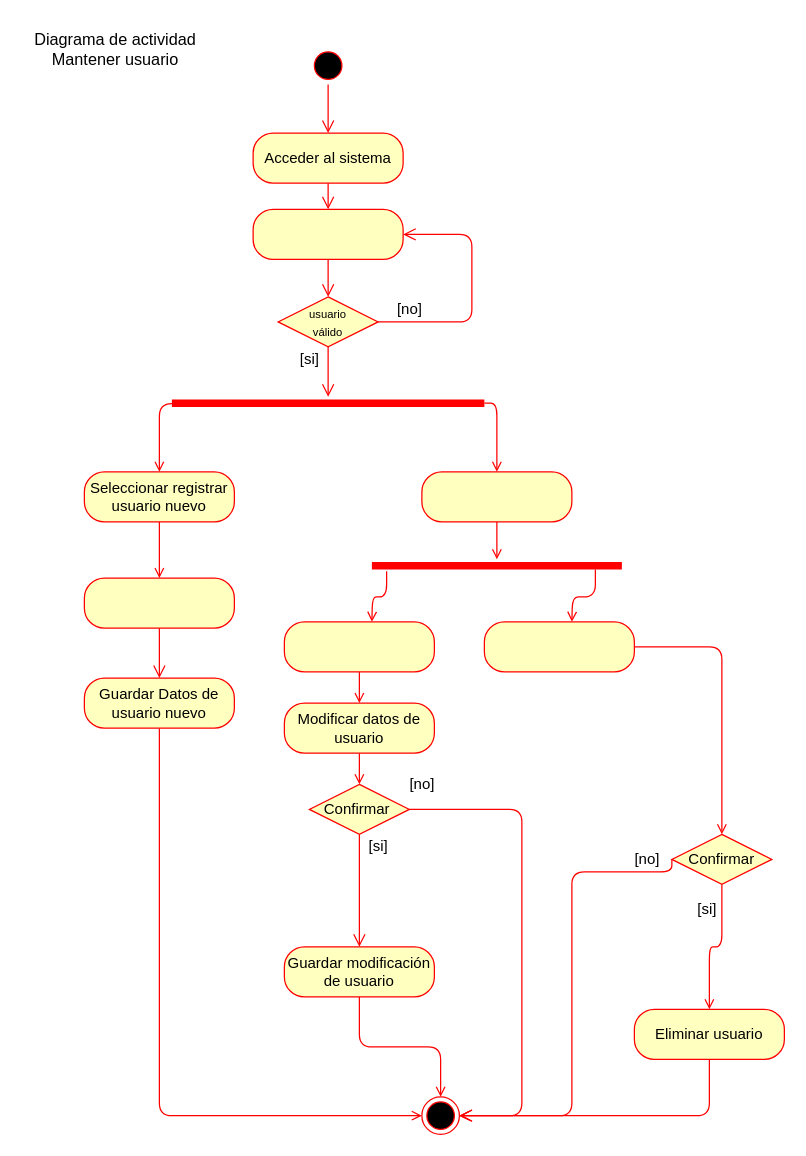
Some shapes in this 806 by 1156 pixel diagram are drawn without their labels. Each missing label, with the centre of its shape:
Registrar datos de usuario nuevo: (158,602)
Seleccionar listado de usuarios: (496,496)
Seleccionar usuario a Eliminar: (558,646)
Seleccionar usuario a Modificar: (358,646)
Verificar identidad: (327,233)
